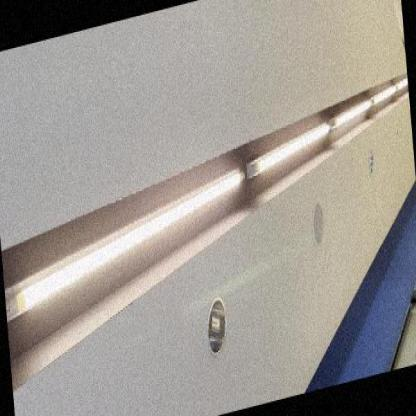light_on: (0, 139, 257, 350), (246, 119, 334, 185), (328, 96, 374, 138), (368, 79, 397, 110), (394, 70, 409, 98)
